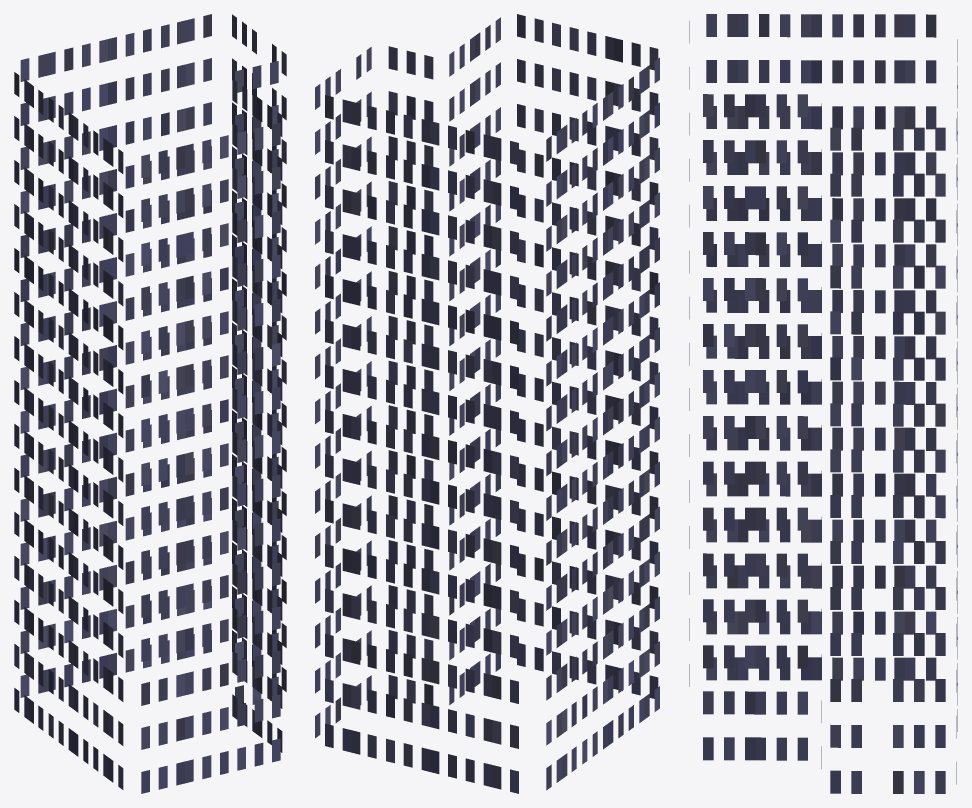
File: windowRefl.114.fbx
3 renders of one model, left to right at view 1: azimuth 30°, elevation 25°; view 2: azimuth 150°, elevation 25°; view 3: azimuth 270°, elevation 25°, orthographic. The views are drawn at different scales.
Parts seen in each view (by area): view 1: windowRefl.114; view 2: windowRefl.114; view 3: windowRefl.114.
Boxes of the visible parts, x1,y1,x2,y2 form: windowRefl.114: (14, 14, 286, 793); windowRefl.114: (315, 14, 659, 793); windowRefl.114: (689, 14, 957, 793).
Size of the model in its own units: 2100 by 2099 by 5730.
